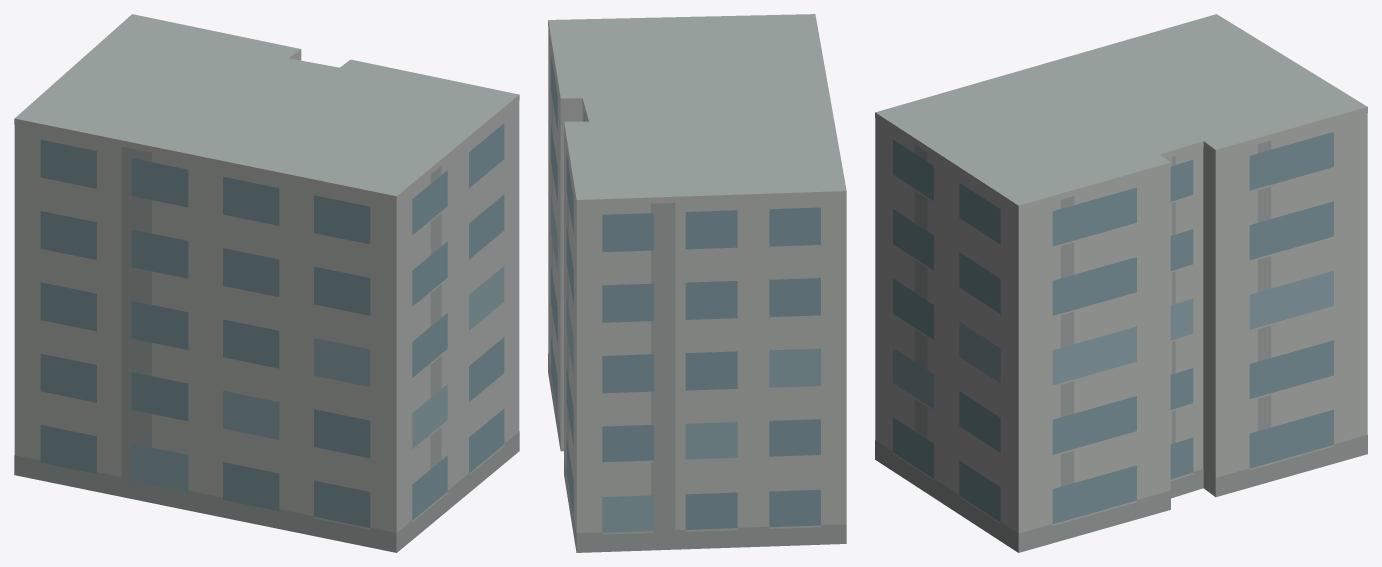
Rendered from survey-upis-32883352.glb.
3 views of the same model, side by side, from view 1: azimuth 30°, elevation 25°; view 2: azimuth 150°, elevation 25°; view 3: azimuth 270°, elevation 25° (orthographic). The views are drawn at different scales.
Visible parts, largest first — view 1: survey-upis-32883352.tmp; view 2: survey-upis-32883352.tmp; view 3: survey-upis-32883352.tmp.
Part boxes in pixels (box(x1,y1,x2,y2)): survey-upis-32883352.tmp: box(14, 14, 519, 552); survey-upis-32883352.tmp: box(548, 14, 846, 552); survey-upis-32883352.tmp: box(875, 14, 1367, 552).
Bounding box in the file's own units: 16.52 × 13.95 × 17.94.
